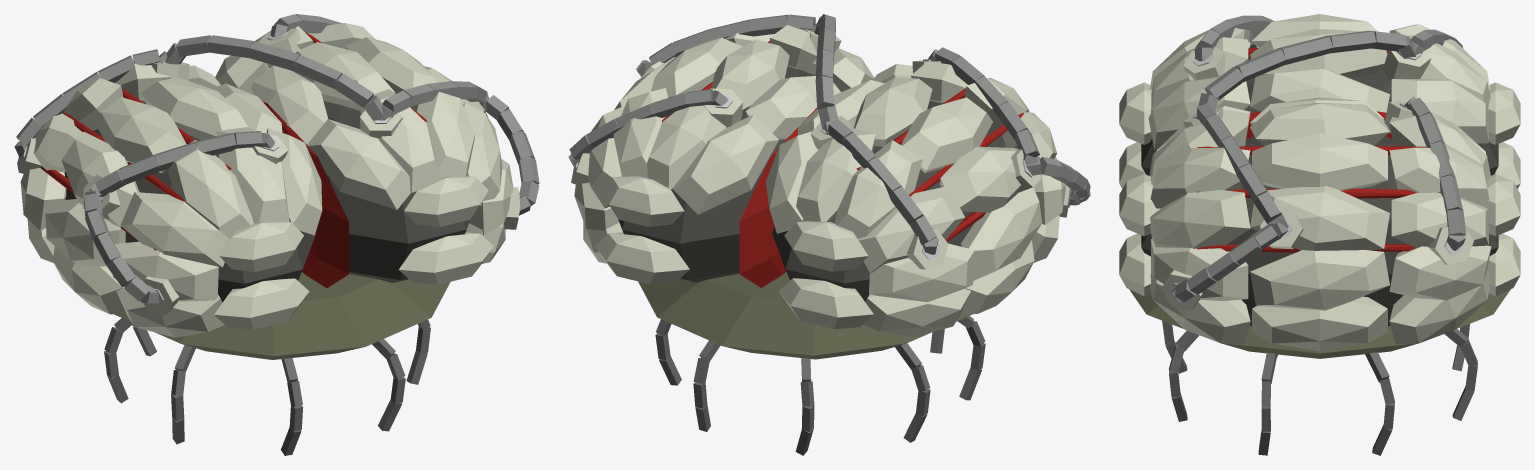
The model's file is cerebrex_brain.obj.
3 views of the same model, side by side, from view 1: azimuth 30°, elevation 25°; view 2: azimuth 150°, elevation 25°; view 3: azimuth 270°, elevation 25° (orthographic).
Visible parts, largest first — view 1: cerebrex_brain_122, cerebrex_brain_26, cerebrex_brain_27, cerebrex_brain_10, cerebrex_brain_7, cerebrex_brain_8, cerebrex_brain_5, cerebrex_brain_52, cerebrex_brain_4, cerebrex_brain_23, cerebrex_brain_49, cerebrex_brain_28 (+38 smaller); view 2: cerebrex_brain_122, cerebrex_brain_26, cerebrex_brain_29, cerebrex_brain_8, cerebrex_brain_14, cerebrex_brain_9, cerebrex_brain_11, cerebrex_brain_15, cerebrex_brain_6, cerebrex_brain_12, cerebrex_brain_32, cerebrex_brain_52 (+39 smaller); view 3: cerebrex_brain_40, cerebrex_brain_34, cerebrex_brain_37, cerebrex_brain_43, cerebrex_brain_36, cerebrex_brain_31, cerebrex_brain_41, cerebrex_brain_2, cerebrex_brain_33, cerebrex_brain_44, cerebrex_brain_38, cerebrex_brain_26 (+48 smaller).
Part boxes in pixels (x1,y1,x2,y2): cerebrex_brain_122: (114, 272, 450, 359); cerebrex_brain_26: (323, 101, 470, 282); cerebrex_brain_27: (307, 119, 411, 209); cerebrex_brain_10: (120, 192, 229, 267); cerebrex_brain_7: (167, 140, 253, 238); cerebrex_brain_8: (94, 97, 186, 173); cerebrex_brain_5: (140, 77, 248, 139); cerebrex_brain_52: (221, 84, 348, 287); cerebrex_brain_4: (216, 127, 289, 223); cerebrex_brain_23: (214, 278, 309, 329); cerebrex_brain_49: (398, 232, 493, 284); cerebrex_brain_28: (251, 65, 327, 144); cerebrex_brain_122: (638, 271, 972, 359); cerebrex_brain_26: (618, 66, 814, 282); cerebrex_brain_29: (673, 114, 778, 214); cerebrex_brain_8: (901, 97, 992, 173); cerebrex_brain_14: (961, 187, 1041, 280); cerebrex_brain_9: (834, 140, 922, 238); cerebrex_brain_11: (940, 146, 1020, 212); cerebrex_brain_15: (869, 243, 974, 301); cerebrex_brain_6: (796, 128, 875, 221); cerebrex_brain_12: (858, 186, 965, 273); cerebrex_brain_32: (647, 105, 725, 190); cerebrex_brain_52: (739, 108, 817, 287); cerebrex_brain_40: (1250, 250, 1389, 310); cerebrex_brain_34: (1252, 133, 1387, 190); cerebrex_brain_37: (1250, 186, 1389, 250); cerebrex_brain_43: (1252, 296, 1387, 351); cerebrex_brain_36: (1150, 190, 1250, 248); cerebrex_brain_31: (1250, 103, 1389, 145); cerebrex_brain_41: (1389, 245, 1491, 300); cerebrex_brain_2: (1250, 68, 1389, 112); cerebrex_brain_33: (1150, 147, 1250, 208); cerebrex_brain_44: (1389, 269, 1489, 344); cerebrex_brain_38: (1391, 192, 1488, 247); cerebrex_brain_26: (1141, 136, 1498, 326).
Bounding box in the file's own units: 6.3 × 4.9 × 5.01.
